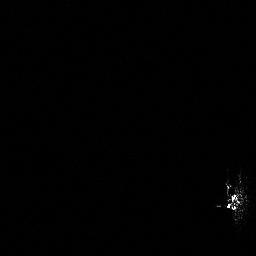ship: (217, 169, 251, 230)
